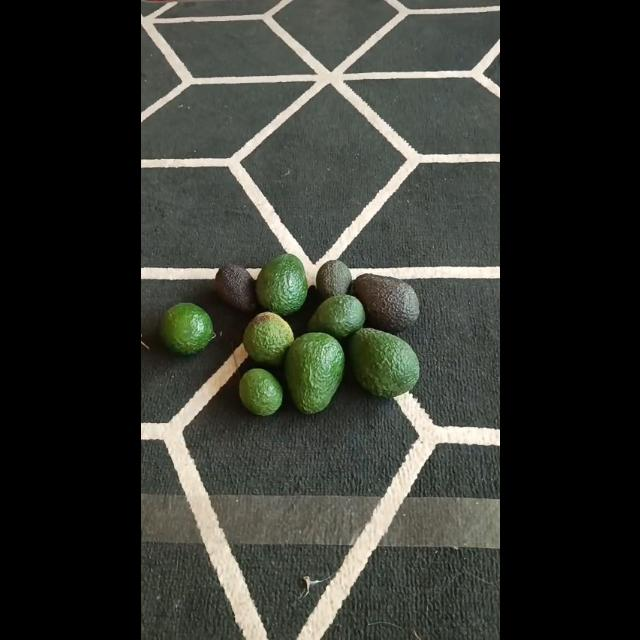Primera: (348, 328, 420, 398), (284, 333, 344, 413), (352, 274, 418, 332), (254, 253, 306, 315)
Segunda: (158, 302, 212, 354), (242, 312, 294, 364), (306, 295, 364, 339)
Tercera: (237, 367, 281, 415), (212, 264, 256, 312), (315, 260, 353, 298)
